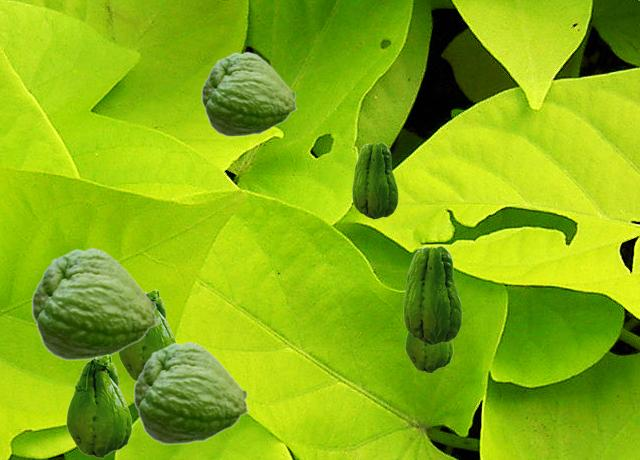sayote: (31, 247, 158, 360), (133, 341, 249, 444), (201, 51, 297, 136), (66, 354, 131, 457), (403, 245, 461, 344), (118, 289, 176, 380), (352, 142, 397, 218), (405, 331, 452, 372)
